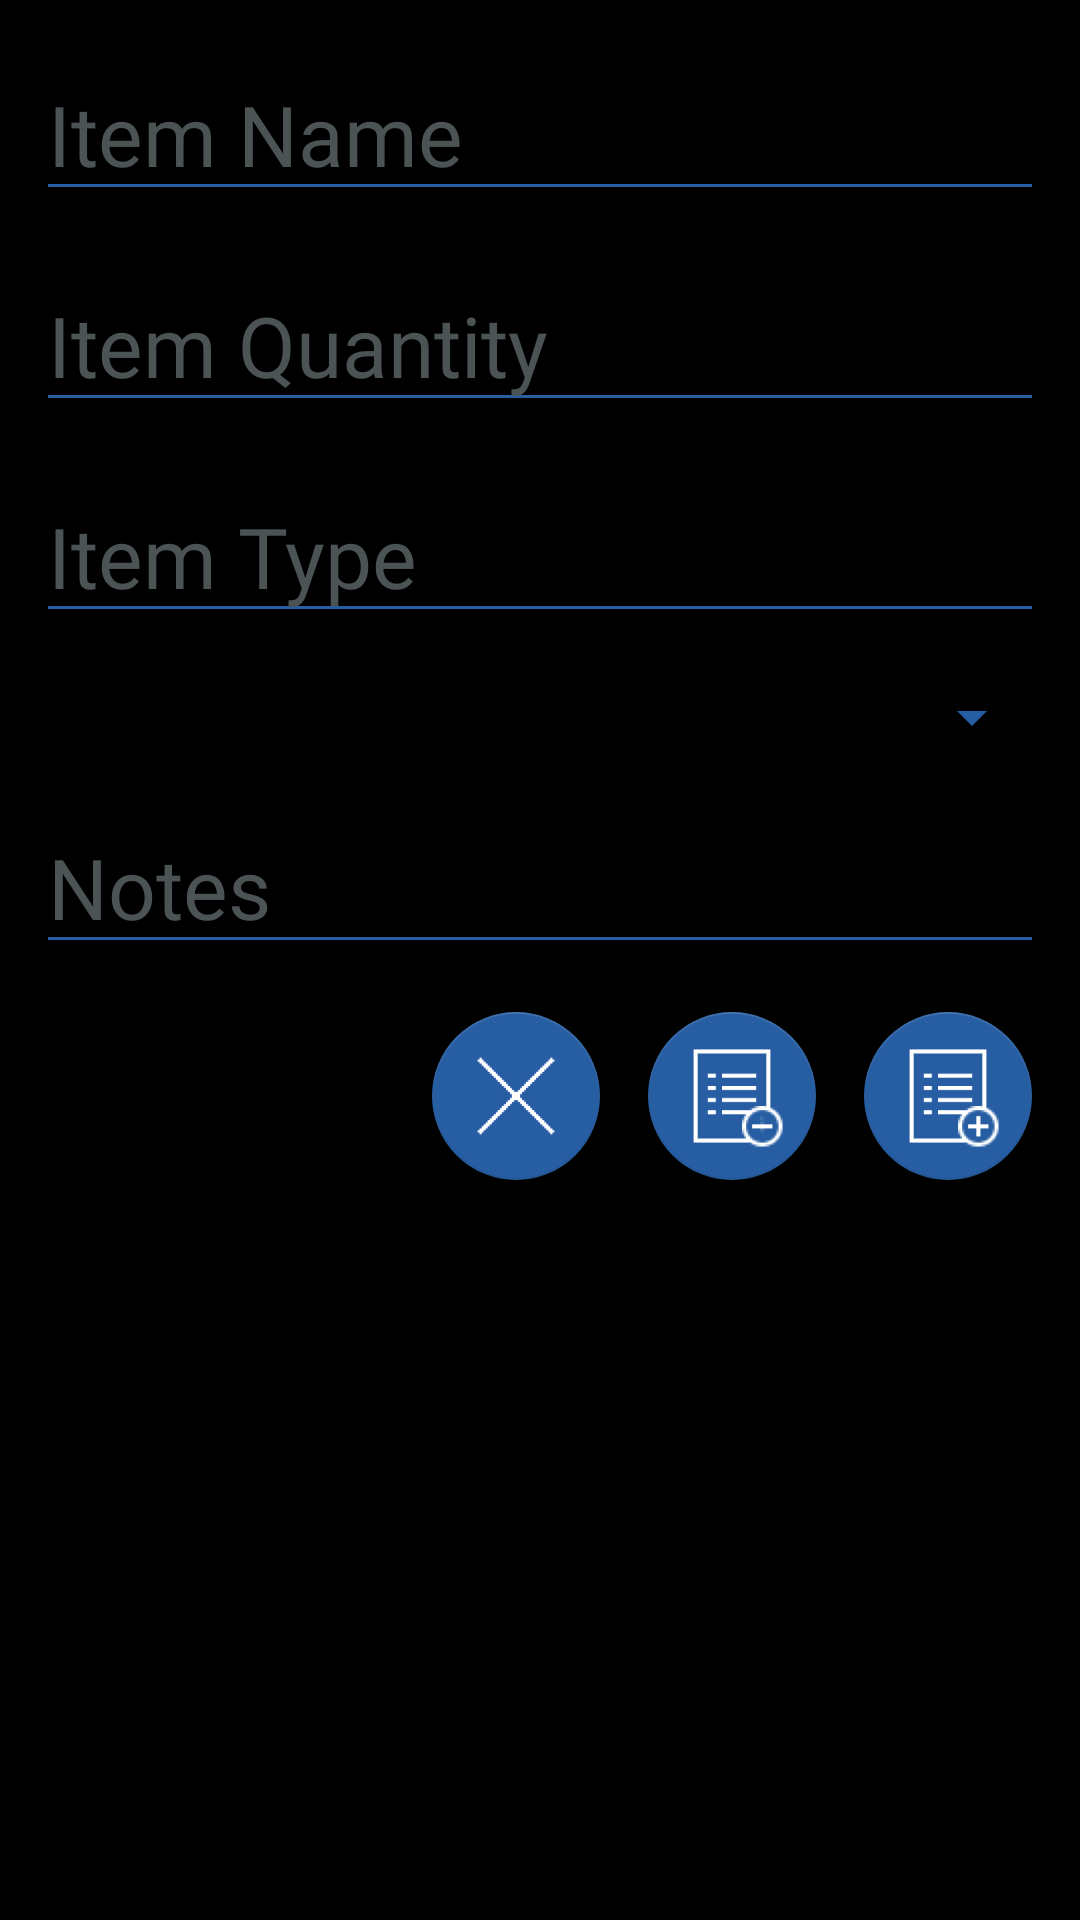

Icons on this 1080px×1920px Android screen, each with its box as box=[x1, y1, x2, y2]:
list add variant: box=[864, 1012, 1032, 1180]
list remove variant: box=[648, 1012, 816, 1180]
